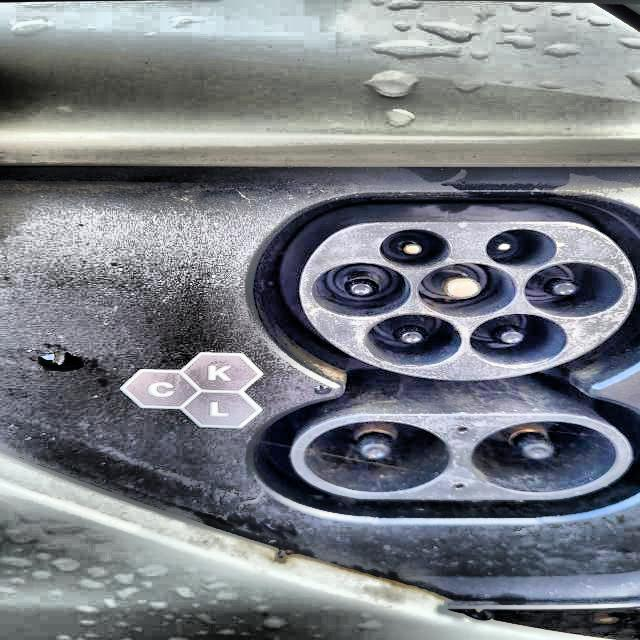inlet: (299, 222, 638, 380)
inlet-above-left: (379, 229, 451, 268)
inlet-above-right: (485, 229, 558, 268)
inlet-below-left: (363, 314, 463, 366)
inlet-below-right: (469, 314, 567, 366)
inlet-center: (417, 262, 516, 317)
inlet-center-left: (313, 262, 411, 317)
inlet-center-right: (525, 262, 622, 317)
